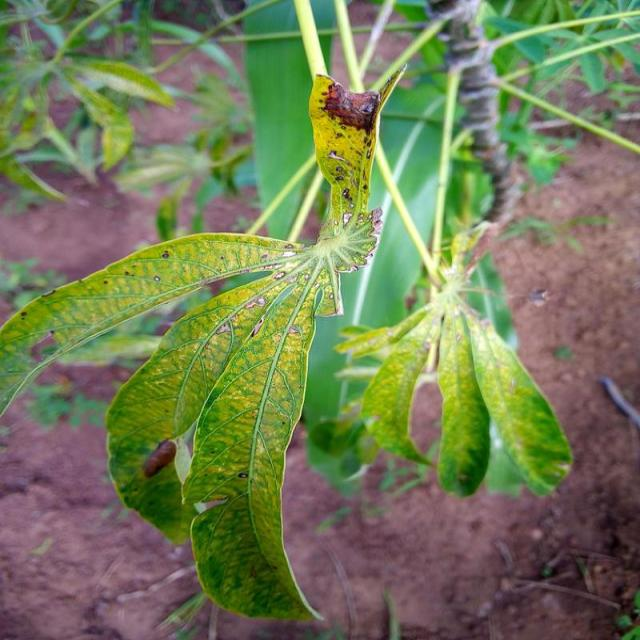cassava leaf: (2, 62, 410, 624)
